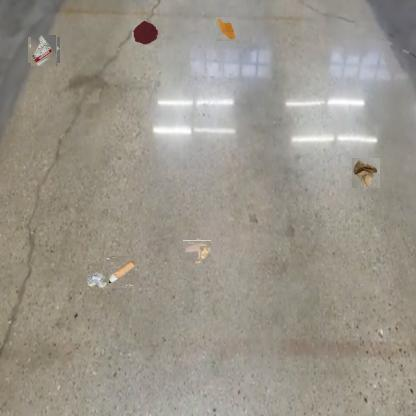dirty: (104, 257, 134, 287), (29, 36, 59, 65), (352, 158, 380, 188), (185, 238, 210, 263), (85, 270, 109, 290)
liquid: (132, 18, 159, 46), (216, 17, 236, 41)
